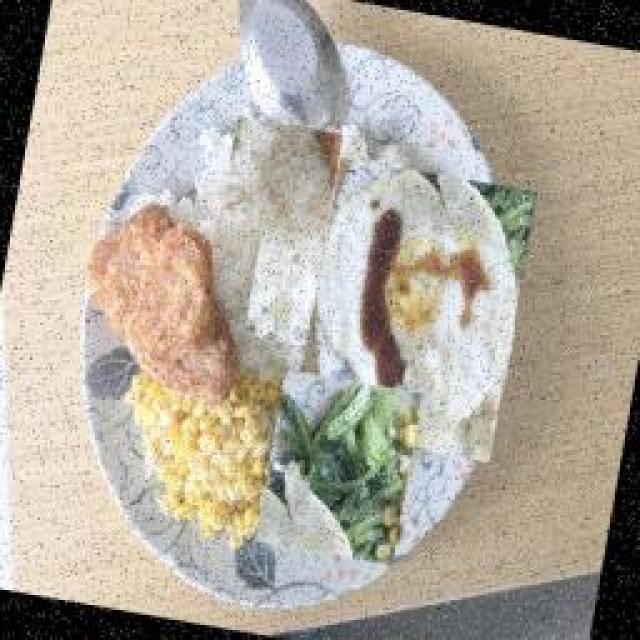fried_eggs: (293, 157, 538, 465)
rice: (200, 115, 345, 348)
triangle_hash_brown: (68, 195, 263, 408)
water_spinach: (255, 367, 423, 565)
